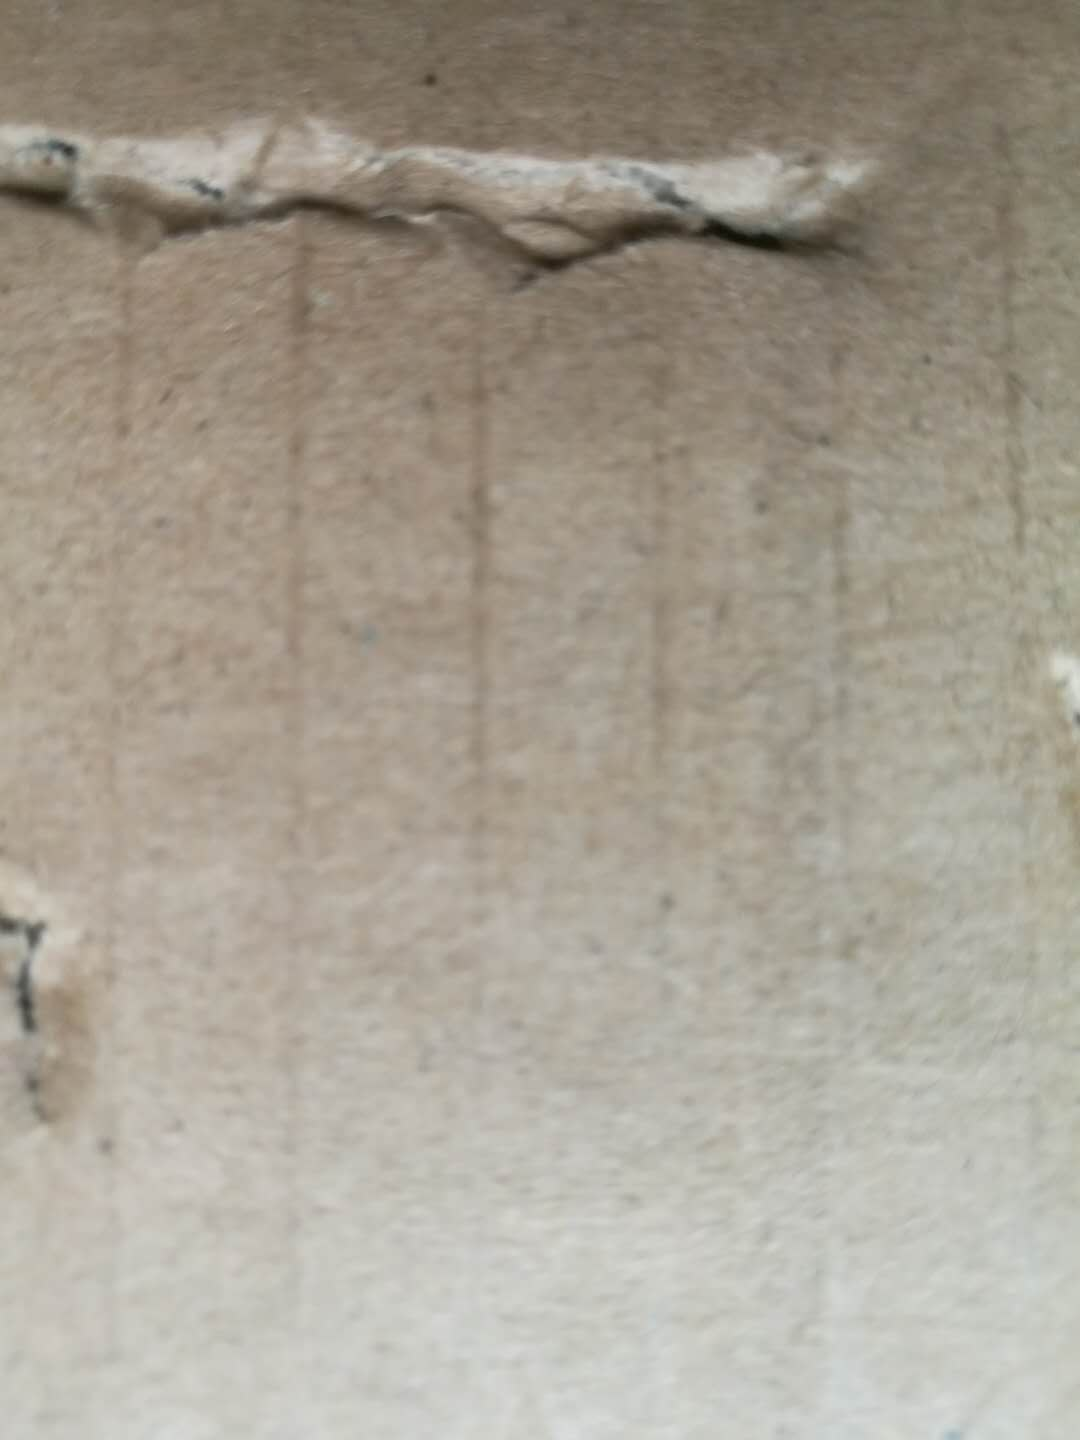defect: (2, 79, 982, 355), (1, 818, 160, 1213)
